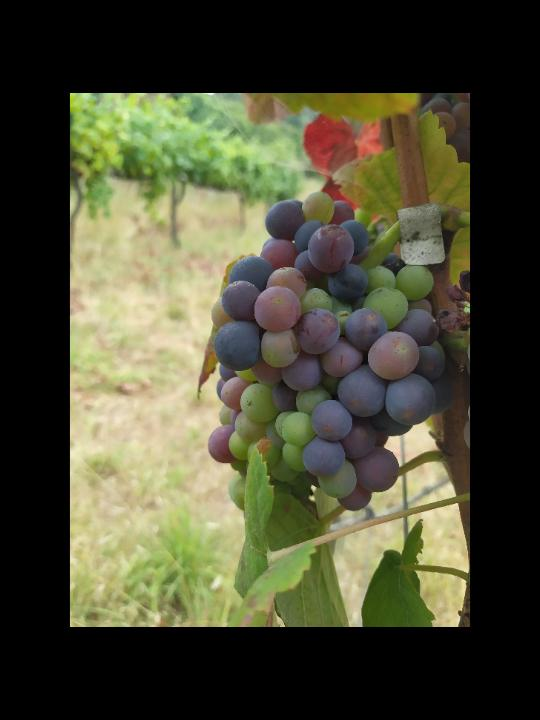grape: (205, 189, 449, 514)
